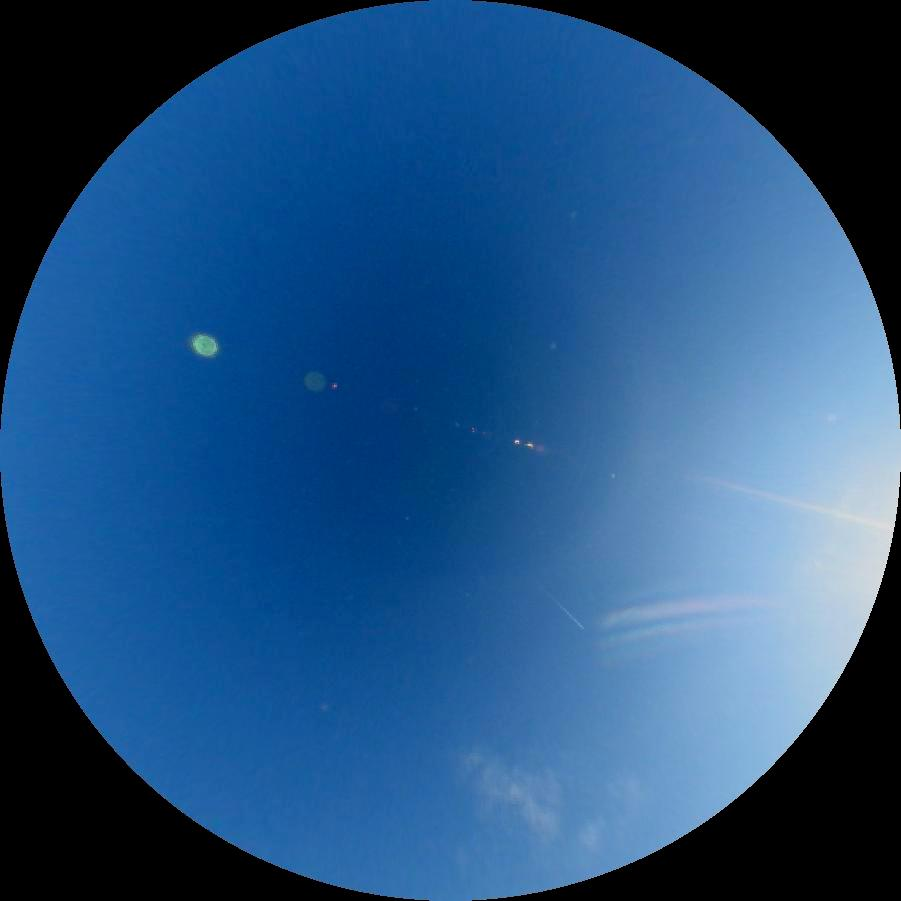contrail young: (532, 579, 587, 632)
parasite: (691, 473, 892, 530), (597, 590, 782, 630)
